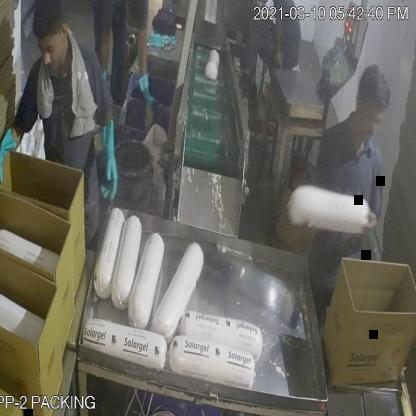glove: (88, 106, 121, 203), (0, 116, 26, 202)
